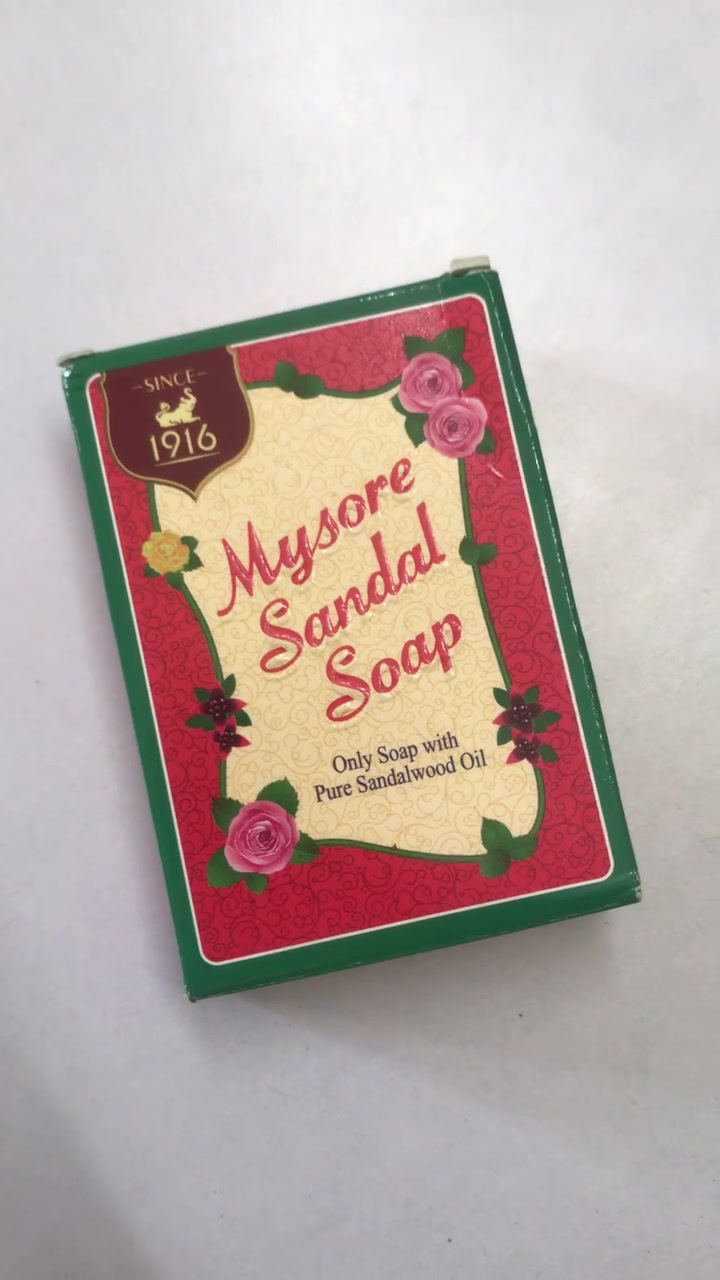mysore sandal soap: (67, 263, 639, 1006)
